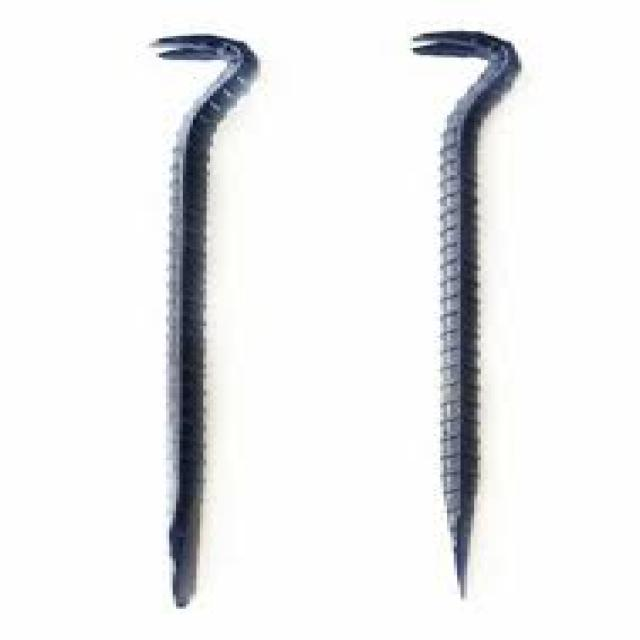Linggis: (370, 27, 540, 610), (114, 29, 266, 621)
